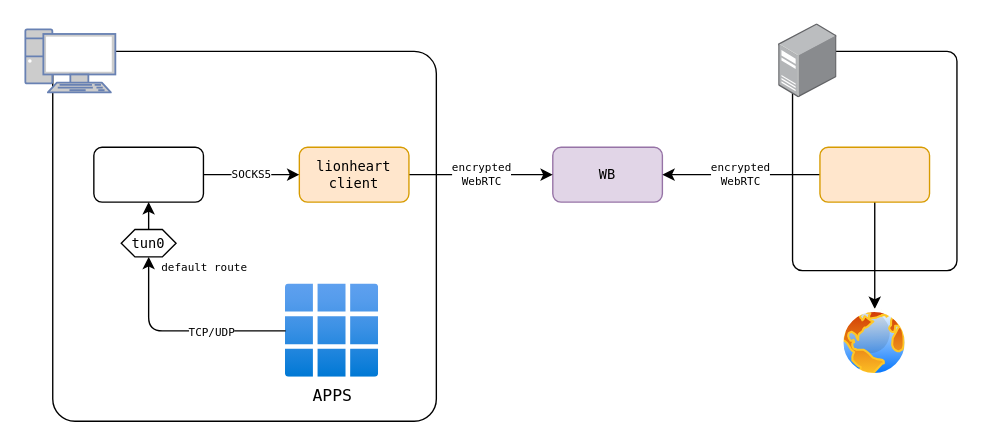
This 981x445 diagram has some shape labels left out. The centre of each missing label's shape, as x and y in pixels:
"lionheart server" goes at (874,174).
"tun2socks" goes at (147,174).
